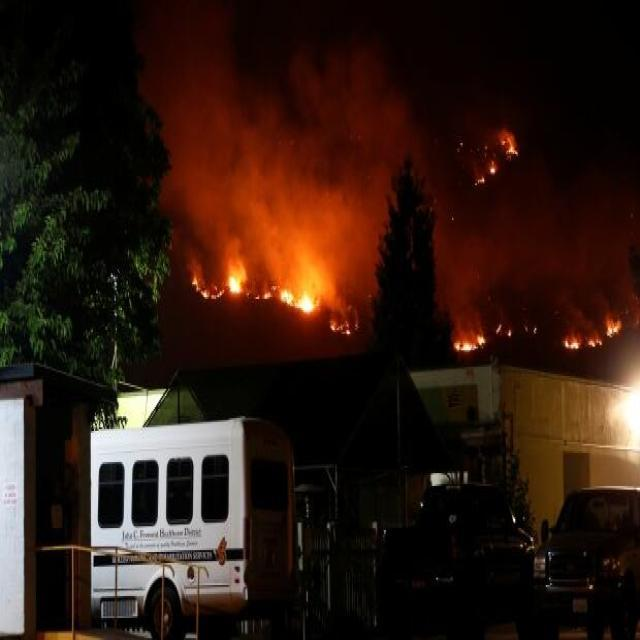Smoke: (112, 0, 356, 312), (286, 28, 496, 314)
